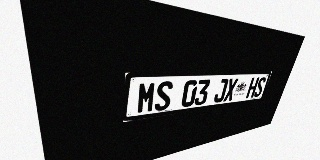0: (180, 80, 198, 108)
3: (194, 79, 211, 106)
H: (245, 77, 259, 98)
J: (213, 79, 229, 103)
M: (136, 82, 157, 114)
S: (154, 81, 174, 111), (253, 77, 267, 97)
X: (223, 78, 238, 102)
